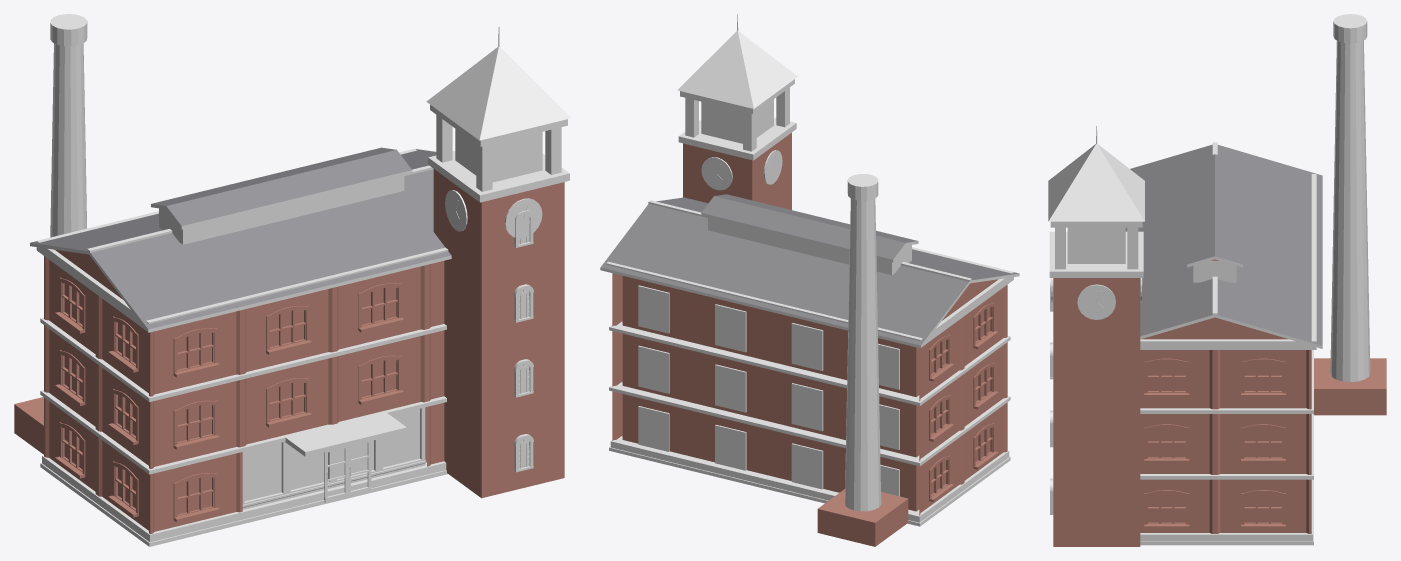
File: lm_lambda.lite.glb
The picture shows the model from 3 angles, left to right: view 1: azimuth 30°, elevation 25°; view 2: azimuth 150°, elevation 25°; view 3: azimuth 270°, elevation 25°; orthographic projection. The views are drawn at different scales.
Parts seen in each view (by area): view 1: lm_lambda; view 2: lm_lambda; view 3: lm_lambda.
Boxes of the visible parts, x1=… form: lm_lambda: x1=14, y1=14, x2=571, y2=546; lm_lambda: x1=600, y1=14, x2=1019, y2=546; lm_lambda: x1=1048, y1=14, x2=1386, y2=546.
Size of the model in its own units: 29.71 by 32.31 by 24.5.
